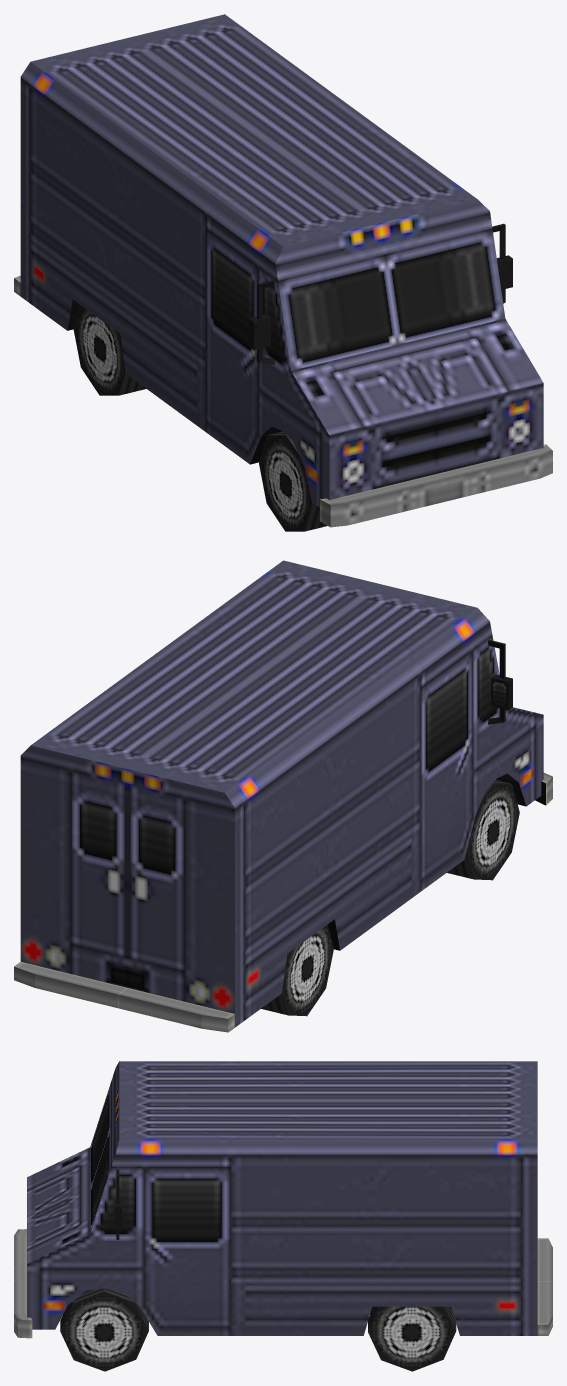
Rendered from Auto7azul.fbx.
3 renders of one model, top to bottom at view 1: azimuth 30°, elevation 25°; view 2: azimuth 150°, elevation 25°; view 3: azimuth 270°, elevation 25°, orthographic. The views are drawn at different scales.
Parts seen in each view (by area): view 1: Car8; view 2: Car8; view 3: Car8.
Boxes of the visible parts, x1,y1,x2,y2 form: Car8: [14, 14, 552, 531]; Car8: [14, 560, 552, 1032]; Car8: [14, 1061, 552, 1371].
Bounding box in the file's own units: 317 × 323 × 689.
Materials: 1 (1 with a texture image).
